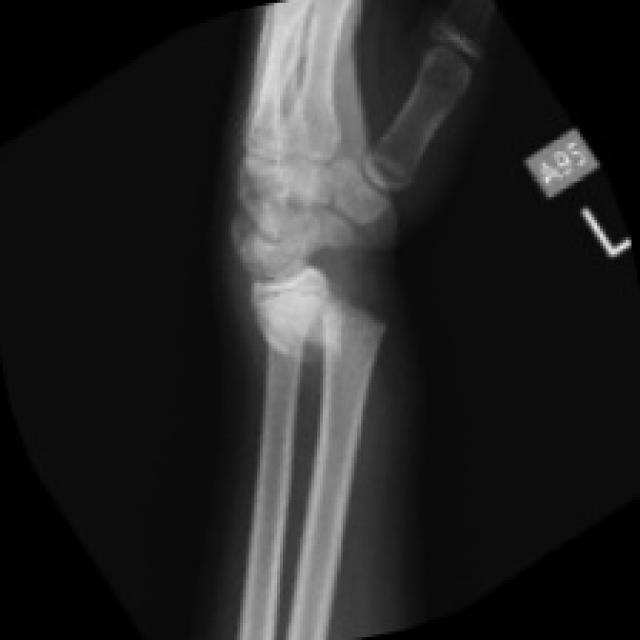fracture: (296, 199, 426, 388)
